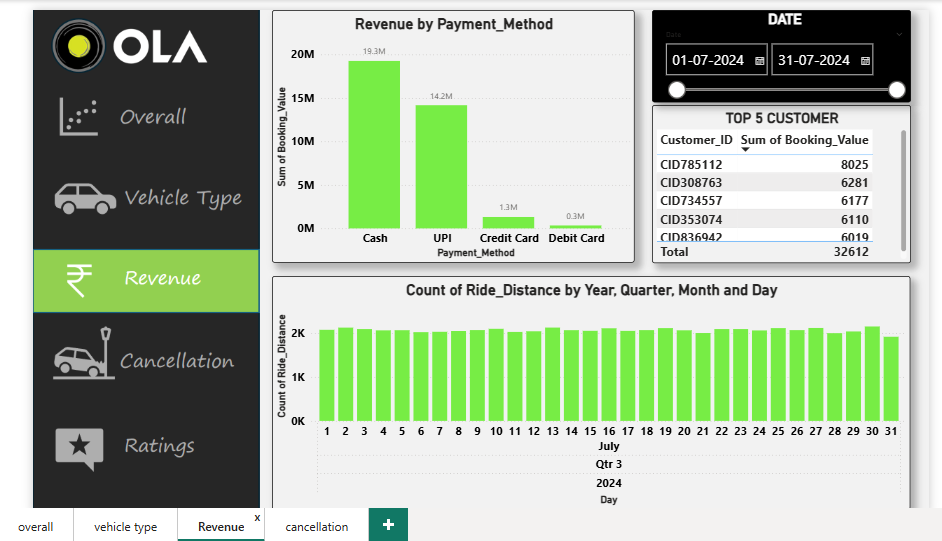

What the dashboard file says about the page in this screenshot:
{"tool":"powerbi","page":{"name":"Revenue","canvas":[1280,720],"ordinal":2},"visuals":[{"type":"actionButton","box":[0,581.1,326,93.5],"z":0},{"type":"actionButton","box":[0,453.5,326,93.5],"z":1000},{"type":"actionButton","box":[0,222.5,326,93.5],"z":2000},{"type":"actionButton","box":[0,107.7,326,93.5],"z":3000},{"type":"columnChart","title":"Revenue by Payment_Method","fields":{"Y":["Sum(OLA PROJECT DATASET CLEAN.Booking_Value)"],"Category":["OLA PROJECT DATASET CLEAN.Payment_Method"]},"box":[342,0,518,361],"z":4000},{"type":"columnChart","fields":{"Y":["CountNonNull(OLA PROJECT DATASET CLEAN.Ride_Distance)"],"Category":["OLA PROJECT DATASET CLEAN.Date.Variation.Date Hierarchy.Year","OLA PROJECT DATASET CLEAN.Date.Variation.Date Hierarchy.Quarter","OLA PROJECT DATASET CLEAN.Date.Variation.Date Hierarchy.Month","OLA PROJECT DATASET CLEAN.Date.Variation.Date Hierarchy.Day"]},"box":[342,380,912,334],"z":5000},{"type":"slicer","title":"DATE","fields":{"Values":["OLA PROJECT DATASET CLEAN.Date"]},"box":[884,0,370,132],"z":6000},{"type":"tableEx","title":"TOP 5 CUSTOMER","fields":{"Values":["OLA PROJECT DATASET CLEAN.Customer_ID","Sum(OLA PROJECT DATASET CLEAN.Booking_Value)"]},"box":[884,136,370,226],"z":7000}]}

Visuals, with their boxes in screenshot pixels (x1, y1, x2, y2):
actionButton: box(29, 414, 258, 480)
actionButton: box(29, 325, 258, 390)
actionButton: box(29, 163, 258, 229)
actionButton: box(29, 83, 258, 148)
"Revenue by Payment_Method" columnChart: box(269, 7, 631, 260)
columnChart - CountNonNull(OLA PROJECT DATASET CLEAN.Ride_Distance) x OLA PROJECT DATASET CLEAN.Date.Variation.Date Hierarchy.Year: box(269, 273, 907, 507)
"DATE" slicer: box(648, 7, 907, 100)
"TOP 5 CUSTOMER" tableEx: box(648, 103, 907, 261)
